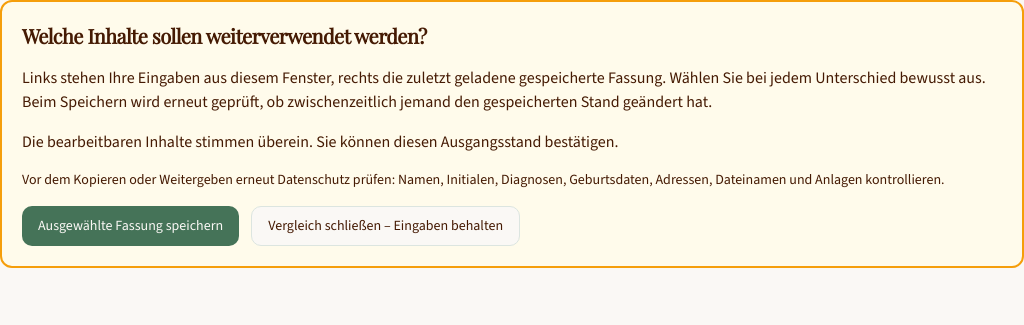
explicit conflict choices › keeps the comparison visible after a new server conflict
Later steps or results of the test are not shown.
Click the button "Ausgewählte Fassung speichern".
click(131, 226)  # box [22,206,239,246]
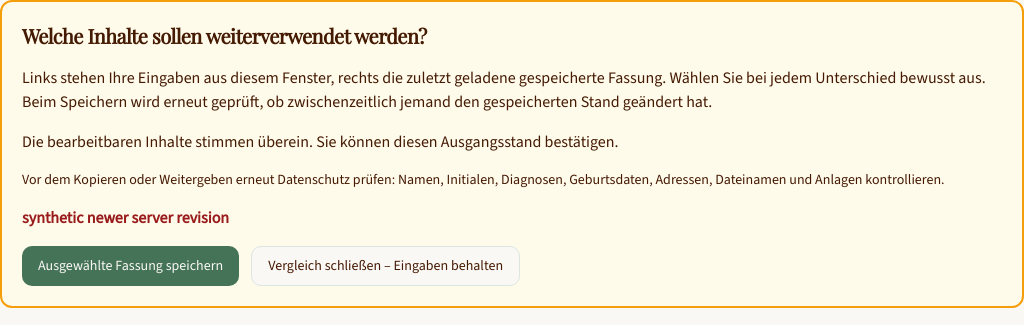
Expected: the message reads "synthetic newer server revision", [22,207,229,228]
